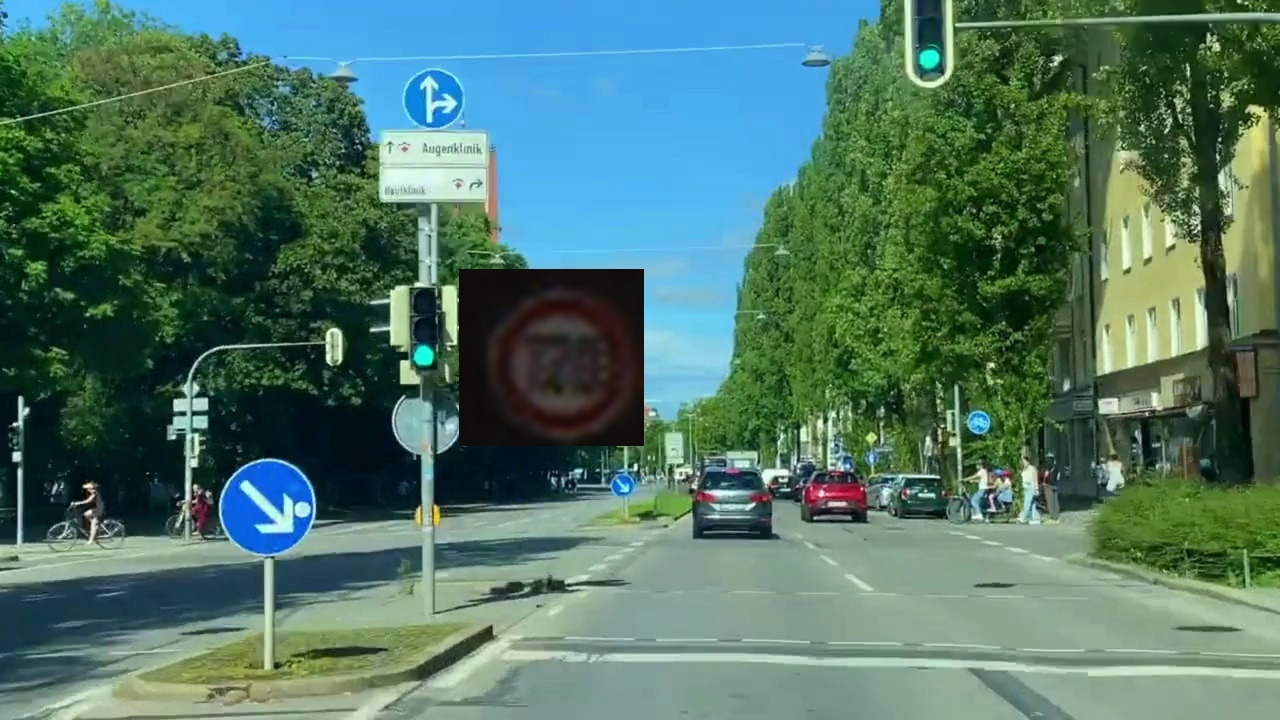Speed 120: (459, 269, 644, 446)
